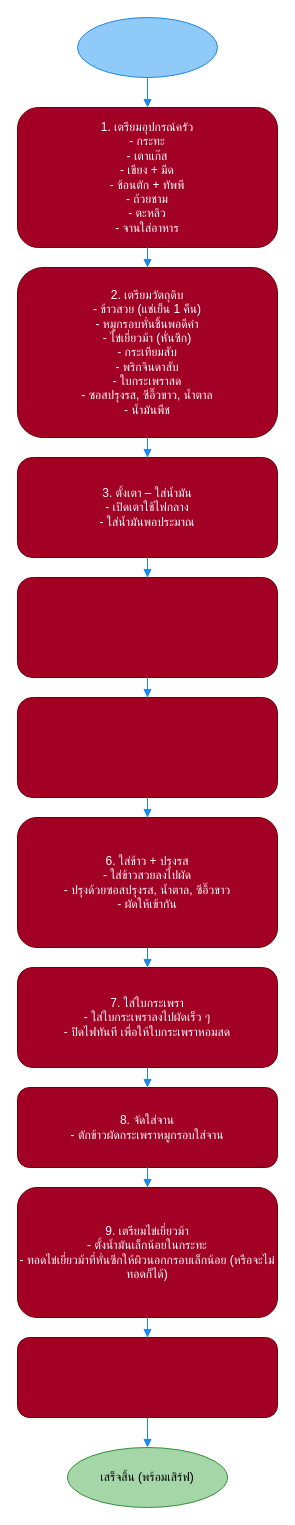
Some shapes in this 295 by 1525 pixel diagram are drawn without their labels. Here are the shapes that lost their labels. From the top down, the centre of each, then its label:
pixel 147 47: เริ่มต้น (Start)
pixel 147 627: 4. ผัดกระเทียม + พริก - ใส่กระเทียมสับ + พริกลงไปผัด - ผัดจนหอม
pixel 147 747: 5. ใส่หมูกรอบ - ใส่หมูกรอบลงไปผัดให้กรอบอีกครั้ง - ใช้ไฟกลางค่อนไปทางแรง
pixel 147 1377: 10. วางไข่เยี่ยวม้าบนจาน - จัดไข่เยี่ยวม้าที่ทอดแล้ววางข้างบน/ข้างจาน
